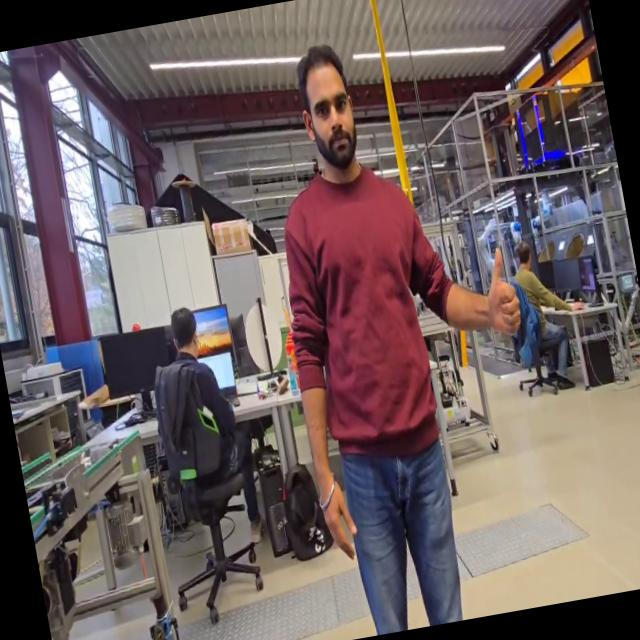thumbs_up: (474, 240, 529, 345)
